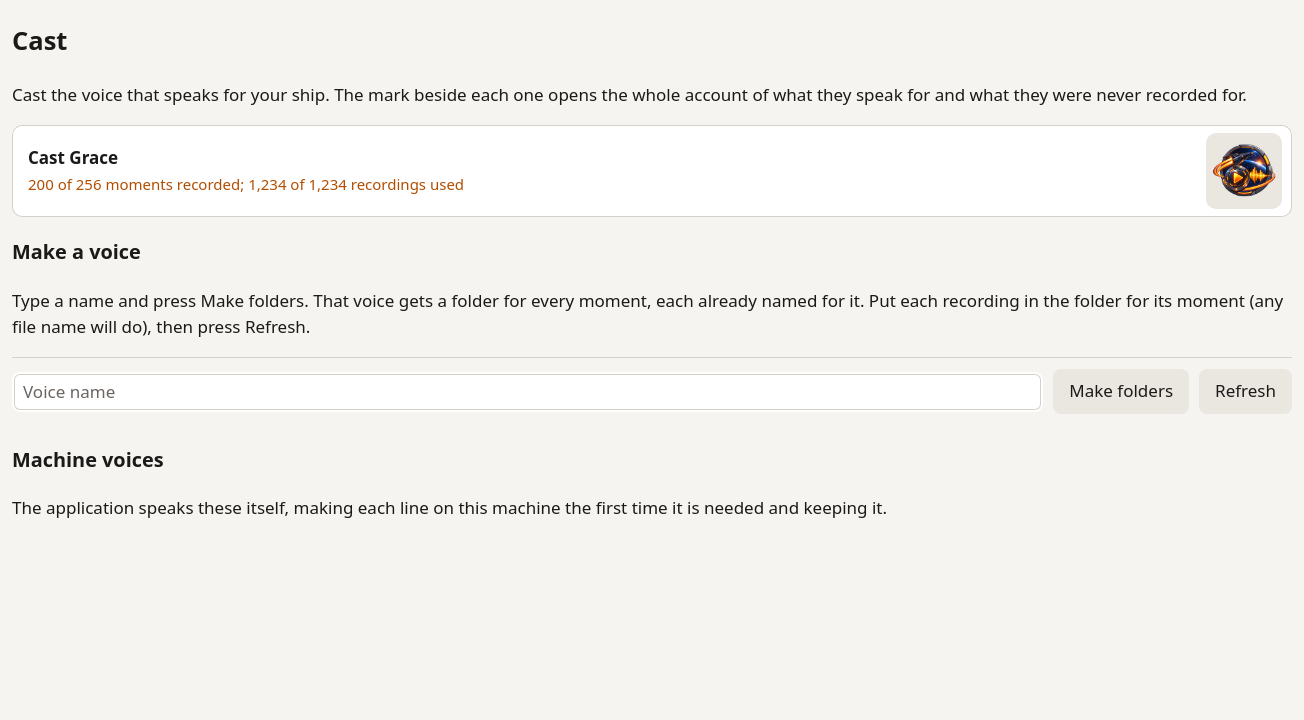
Test: making a voice › says plainly when every folder was already there
Type "Oliver" into the field labelled "Voice name" at (528, 392), box left=12, top=372, right=1043, bottom=412
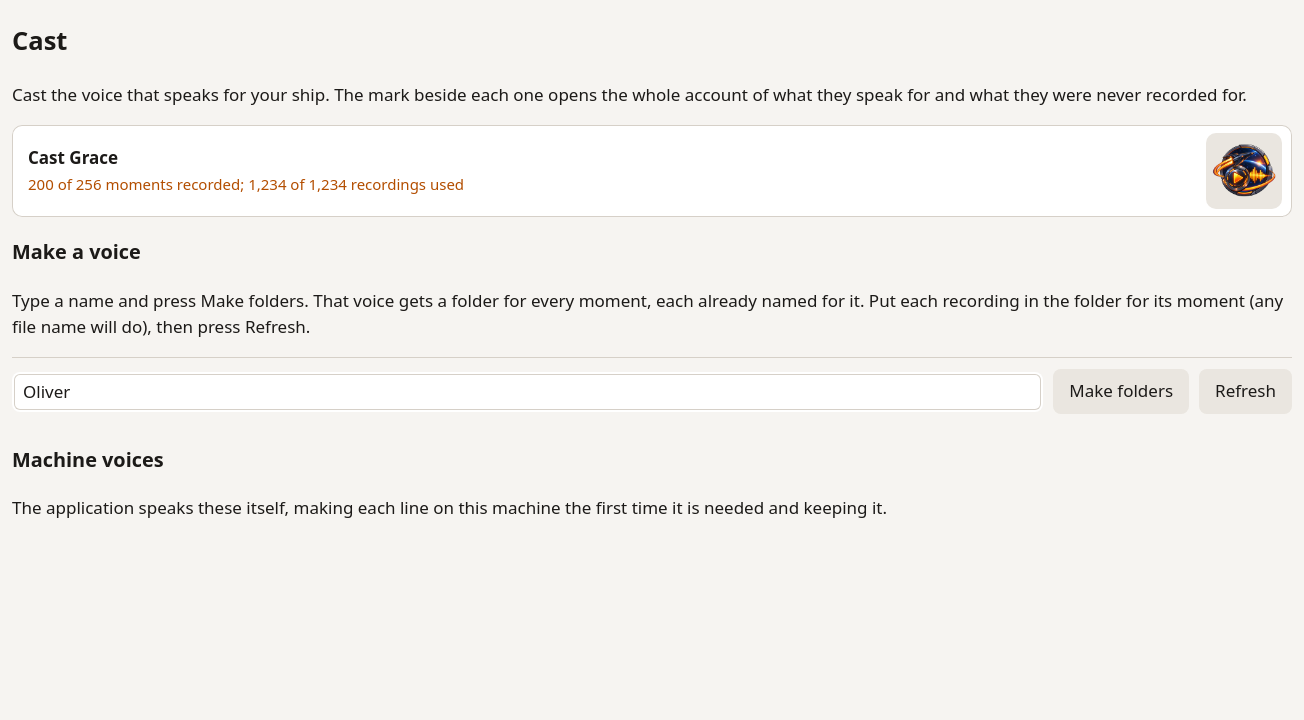
Click the button "Make folders" at (1121, 392), box left=1053, top=369, right=1189, bottom=414
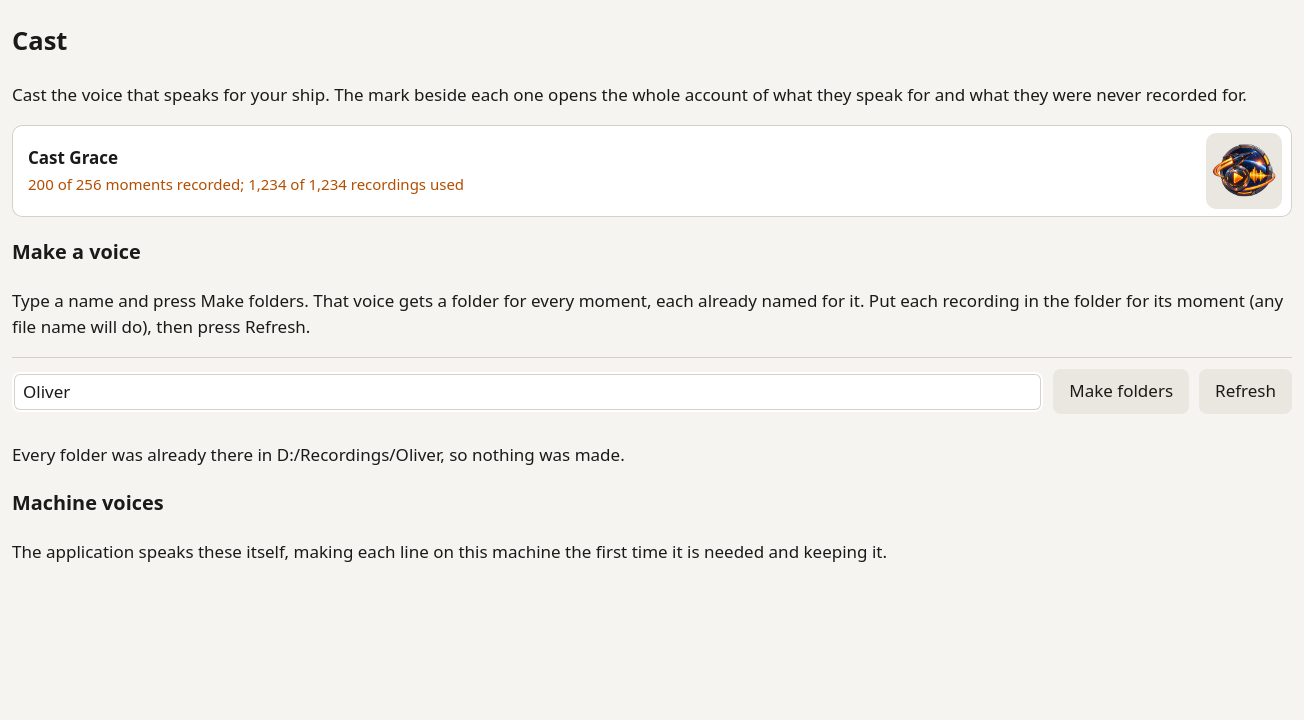
Check: the message does not show "Made"
Check: the message shows "already there", box left=12, top=443, right=625, bottom=466
